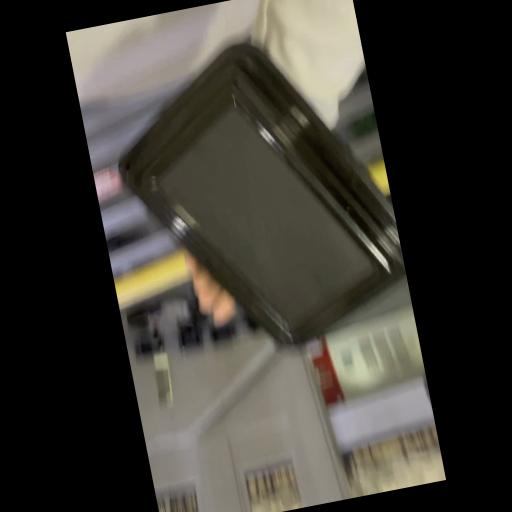rigid_plastic_container: (90, 19, 417, 384)
